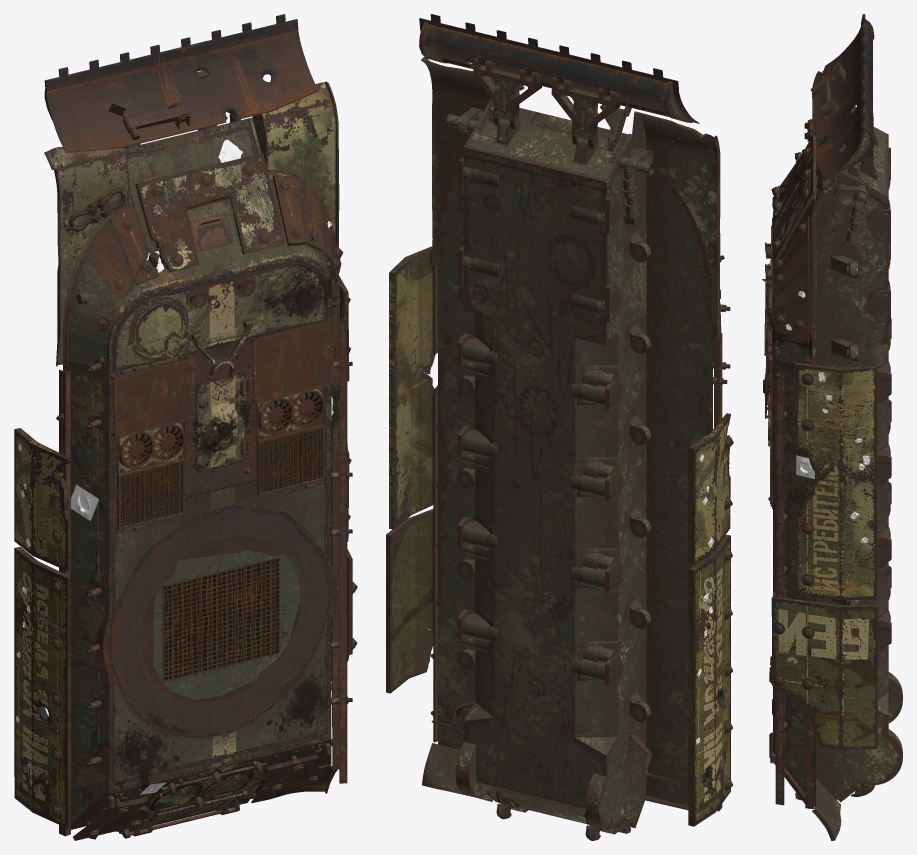
Rendered from Hull_03.glb.
The picture shows the model from 3 angles, left to right: view 1: azimuth 30°, elevation 25°; view 2: azimuth 150°, elevation 25°; view 3: azimuth 270°, elevation 25°; orthographic projection. The views are drawn at different scales.
Parts seen in each view (by area): view 1: set_0_group_0, set_0_group_1, set_0_group_2; view 2: set_0_group_0, set_0_group_1; view 3: set_0_group_0, set_0_group_1, set_0_group_2.
Part boxes in pixels (x1,y1,x2,y2): set_0_group_0: [44, 14, 357, 840]; set_0_group_1: [14, 153, 352, 828]; set_0_group_2: [16, 139, 333, 794]; set_0_group_0: [419, 14, 733, 840]; set_0_group_1: [386, 246, 730, 826]; set_0_group_0: [762, 14, 902, 840]; set_0_group_1: [764, 135, 877, 749]; set_0_group_2: [785, 291, 870, 543].
Bounding box in the file's own units: 3.14 × 7.61 × 1.36.
3 materials, 2 textured.
